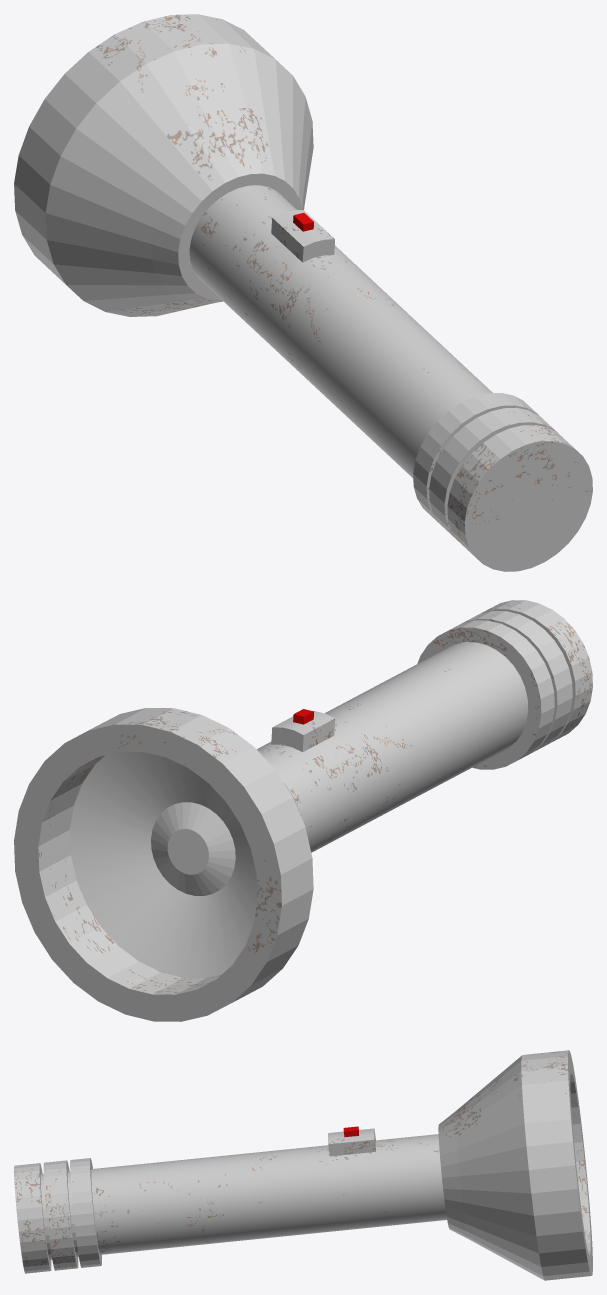
Rendered from LanternaRE1.fbx.
3 renders of one model, top to bottom at view 1: azimuth 30°, elevation 25°; view 2: azimuth 150°, elevation 25°; view 3: azimuth 270°, elevation 25°, orthographic. The views are drawn at different scales.
Parts seen in each view (by area): view 1: Lanterna; view 2: Lanterna; view 3: Lanterna.
Part boxes in pixels (x1,y1,x2,y2): Lanterna: (14, 14, 592, 571); Lanterna: (14, 600, 592, 1021); Lanterna: (14, 1050, 592, 1280).
Bounding box in the file's own units: 5.26 × 5.32 × 13.37.
Materials: 1 (1 with a texture image).
